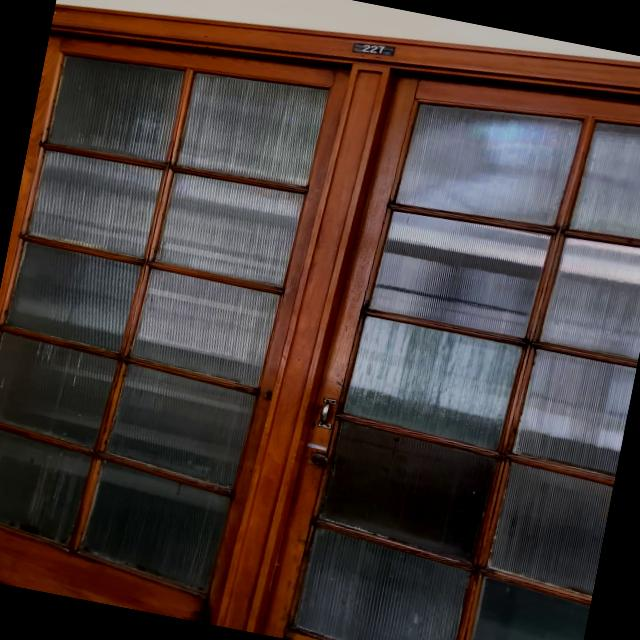room227: (348, 36, 398, 62)
